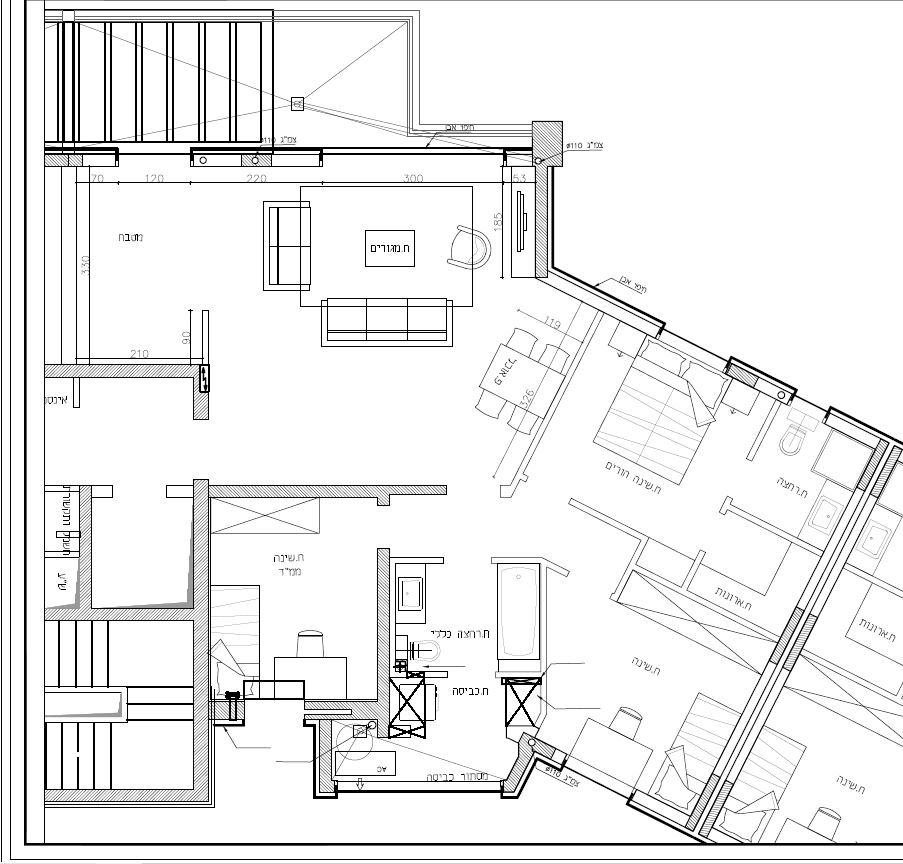wall: (193, 480, 208, 801), (214, 484, 371, 497)
